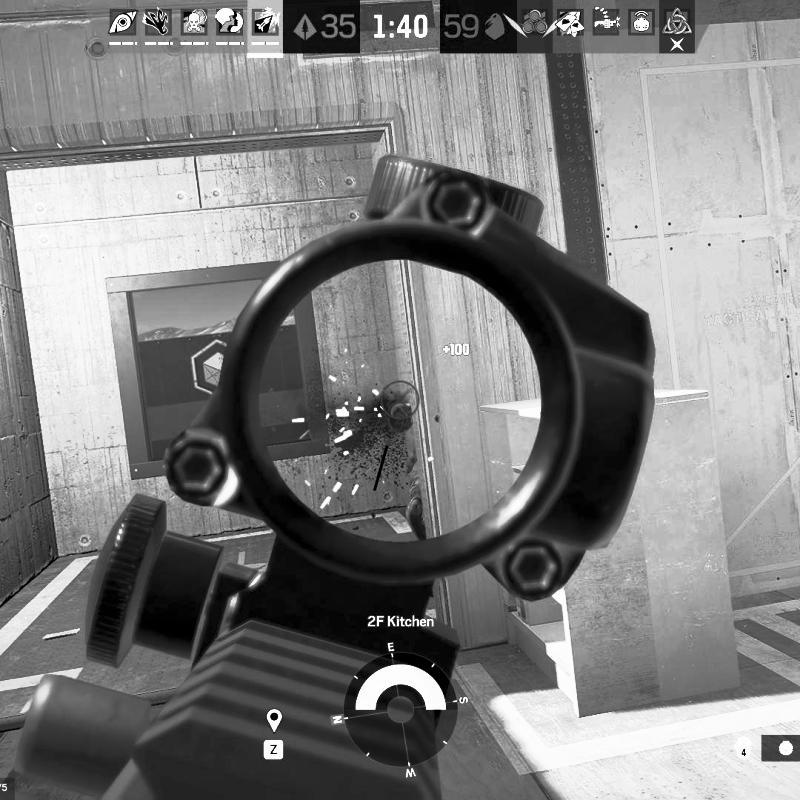Character: (386, 401, 426, 543)
